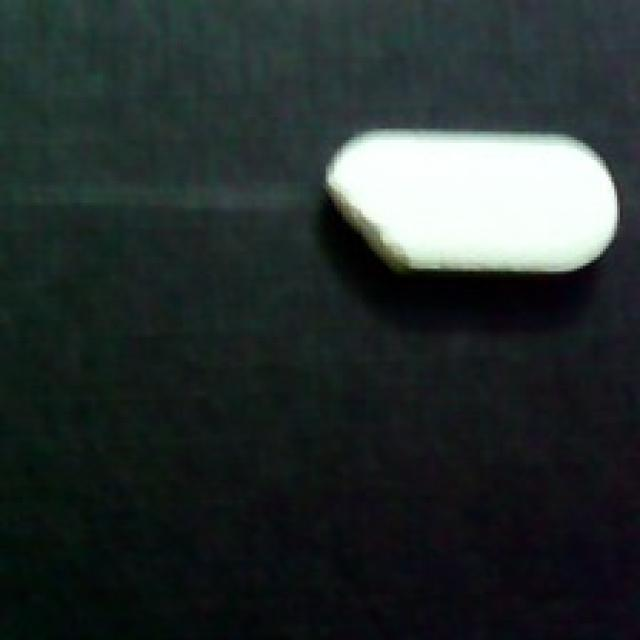defected: (314, 114, 623, 286)
